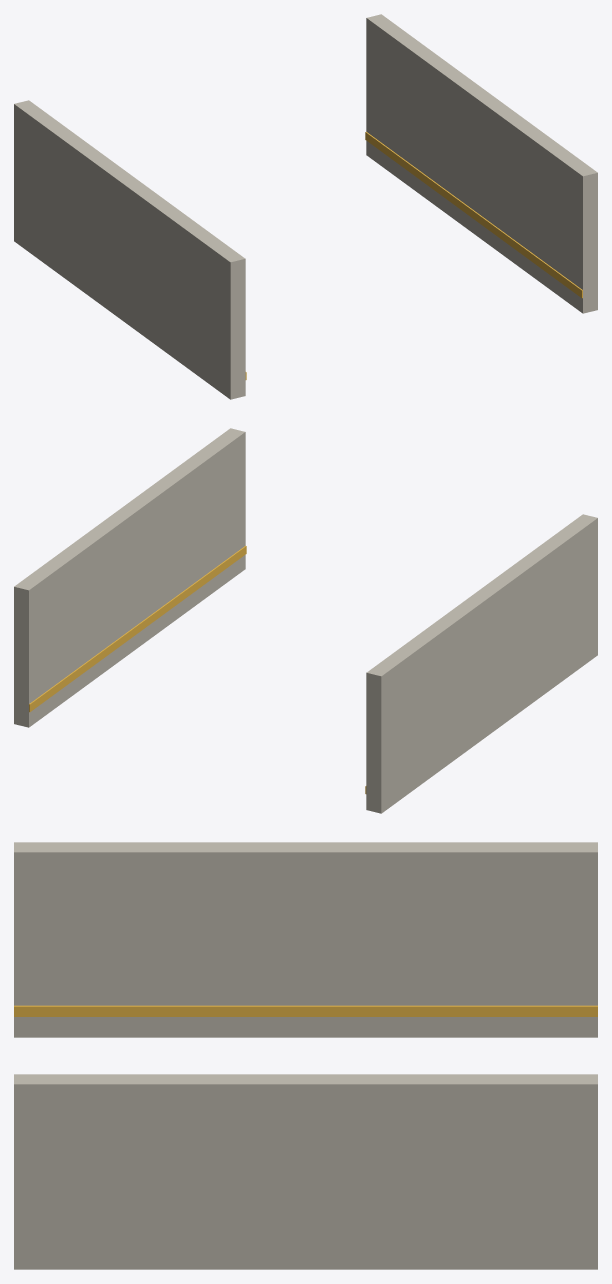
The model's file is underpass_open.glb.
The picture shows the model from 3 angles, top to bottom: view 1: azimuth 30°, elevation 25°; view 2: azimuth 150°, elevation 25°; view 3: azimuth 270°, elevation 25°; orthographic projection. The views are drawn at different scales.
Visible parts, largest first — view 1: trough; view 2: trough; view 3: trough.
Part boxes in pixels (x1,y1,x2,y2): trough: [14, 14, 597, 399]; trough: [14, 428, 597, 813]; trough: [14, 842, 597, 1269].
Bounding box in the file's own units: 19.6 × 7 × 20.
